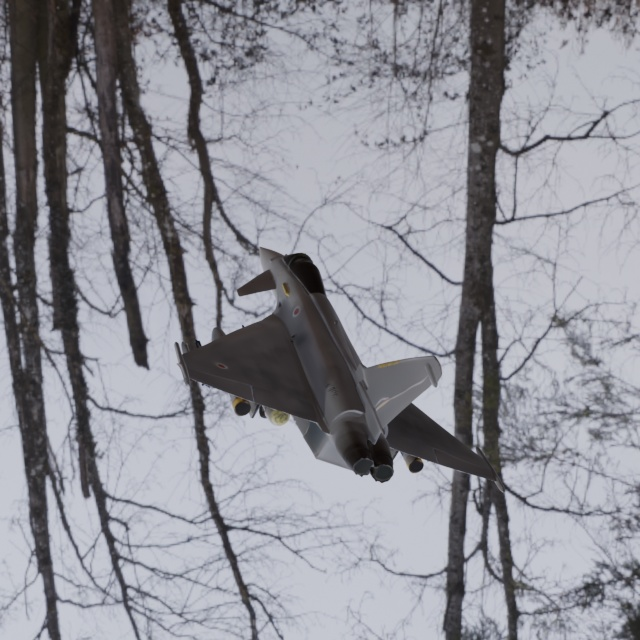eurofighter_typhoon_3d: (109, 102, 606, 592)
